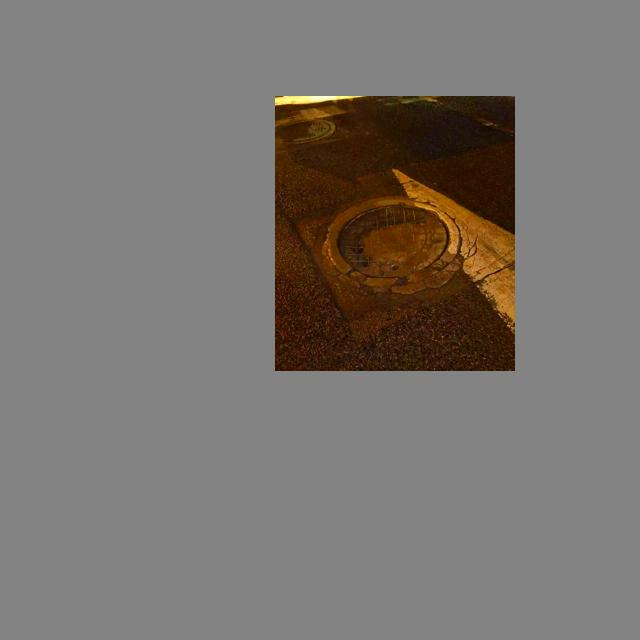circle: (297, 186, 497, 319)
